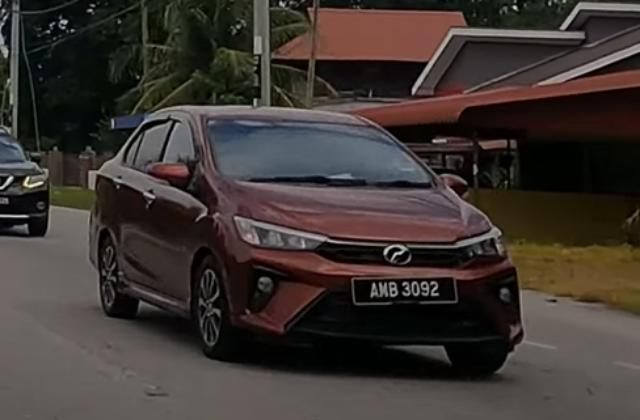License_Plate: (350, 275, 460, 307)
car: (88, 105, 526, 376)
